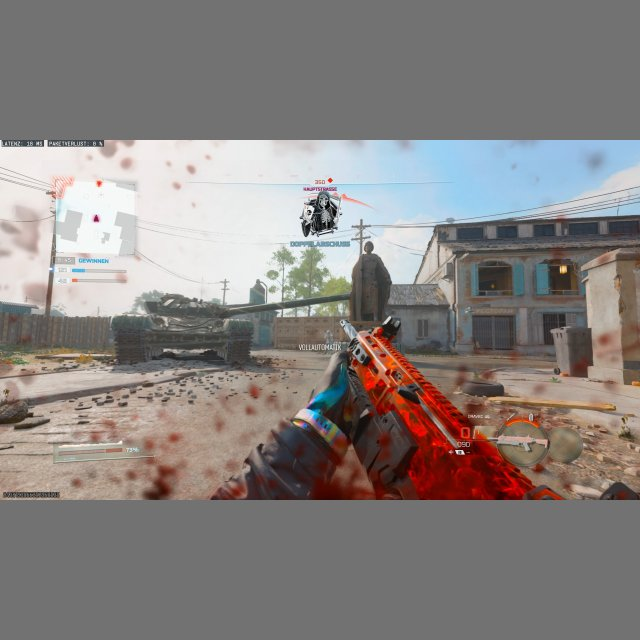player: (324, 329, 334, 353)
